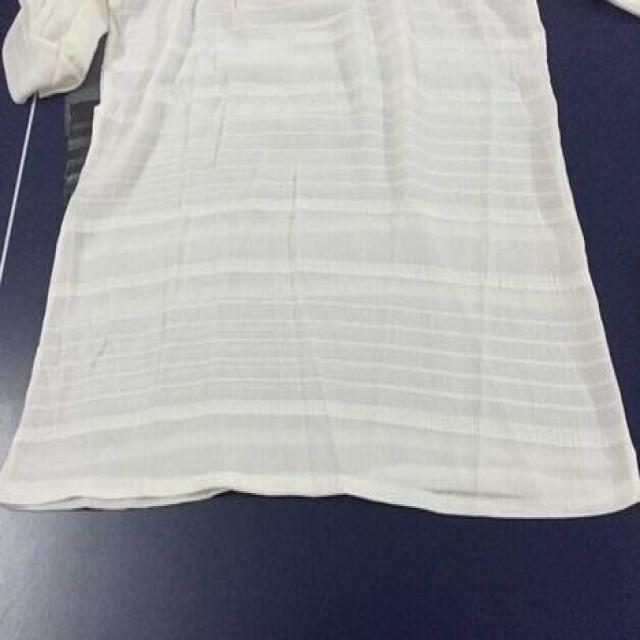short sleeve top: (4, 2, 639, 506)
